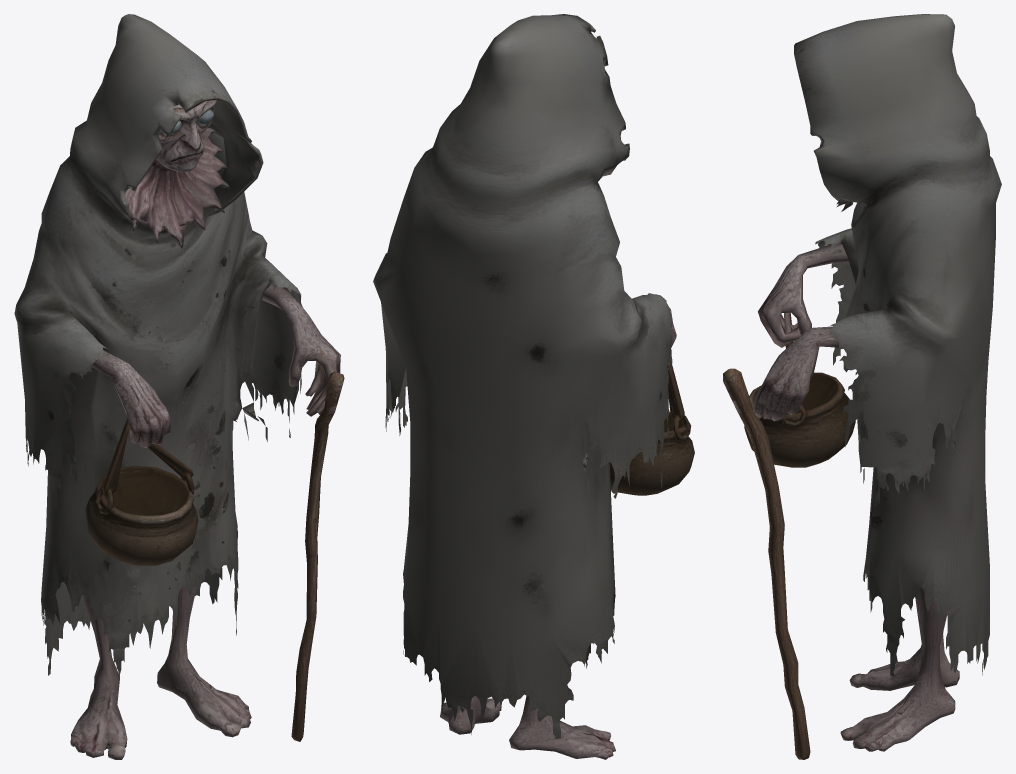
Rendered from selected.glb.
3 views of the same model, side by side, from view 1: azimuth 30°, elevation 25°; view 2: azimuth 150°, elevation 25°; view 3: azimuth 270°, elevation 25° (orthographic). The views are drawn at different scales.
Visible parts, largest first — view 1: tripo_node_837d35f9-a14a-41b7-a7a0-dcdb89f21fce; view 2: tripo_node_837d35f9-a14a-41b7-a7a0-dcdb89f21fce; view 3: tripo_node_837d35f9-a14a-41b7-a7a0-dcdb89f21fce.
Part boxes in pixels (<box>): tripo_node_837d35f9-a14a-41b7-a7a0-dcdb89f21fce: <box>14,14,344,759</box>; tripo_node_837d35f9-a14a-41b7-a7a0-dcdb89f21fce: <box>373,14,694,759</box>; tripo_node_837d35f9-a14a-41b7-a7a0-dcdb89f21fce: <box>723,14,1001,759</box>.
Size of the model in its own units: 0.3809 by 0.998 by 0.3613.
Materials: 1 (1 with a texture image).
